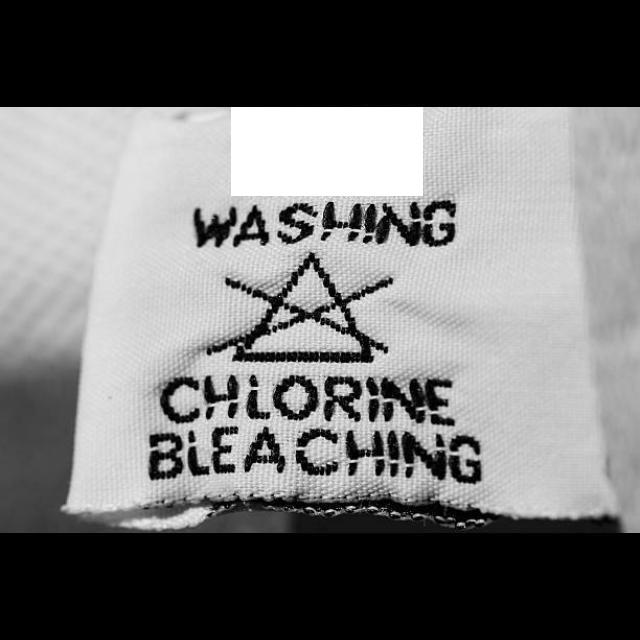DN_bleach: (202, 249, 406, 371)
